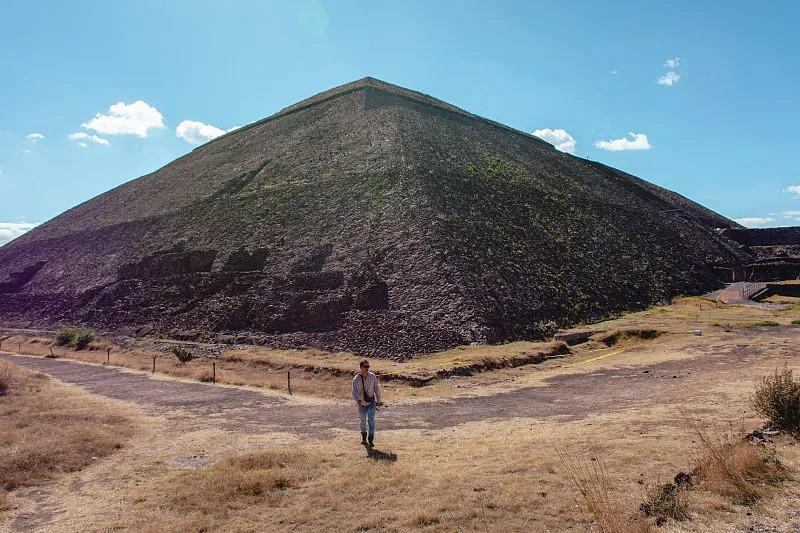Pyramid: (1, 75, 741, 355)
